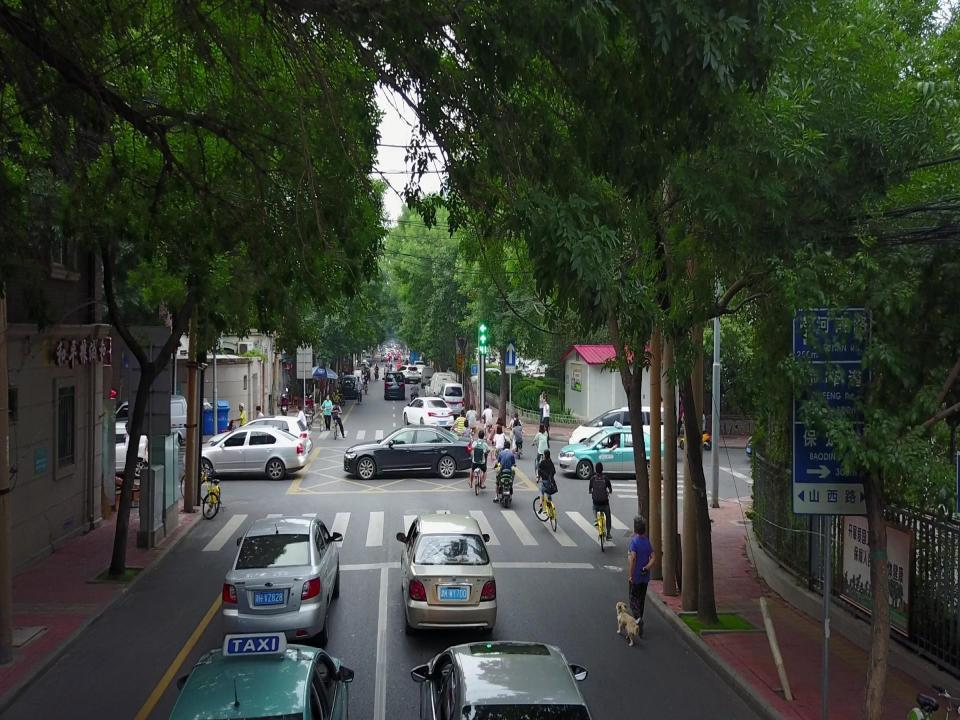car: (171, 631, 354, 719), (222, 520, 344, 640), (411, 639, 595, 717), (395, 515, 497, 631), (343, 425, 475, 480), (558, 421, 672, 479), (184, 425, 308, 478), (227, 416, 309, 467), (76, 421, 150, 477), (746, 417, 834, 459), (402, 397, 454, 429), (382, 371, 406, 400), (338, 375, 358, 399), (396, 366, 418, 384), (424, 378, 440, 397), (414, 360, 424, 370)
truck: (409, 350, 419, 366)
van: (567, 406, 673, 453), (108, 396, 188, 446), (439, 383, 465, 417), (430, 372, 454, 401), (420, 366, 434, 387), (416, 366, 426, 380)
